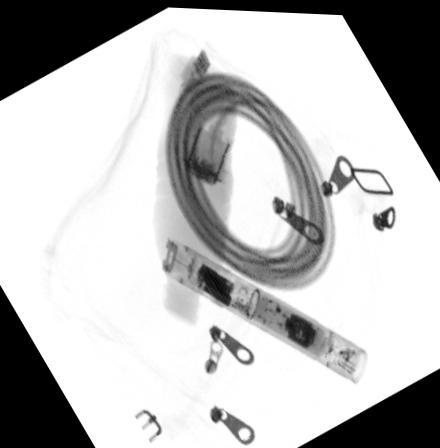Baton: (159, 230, 370, 383)
